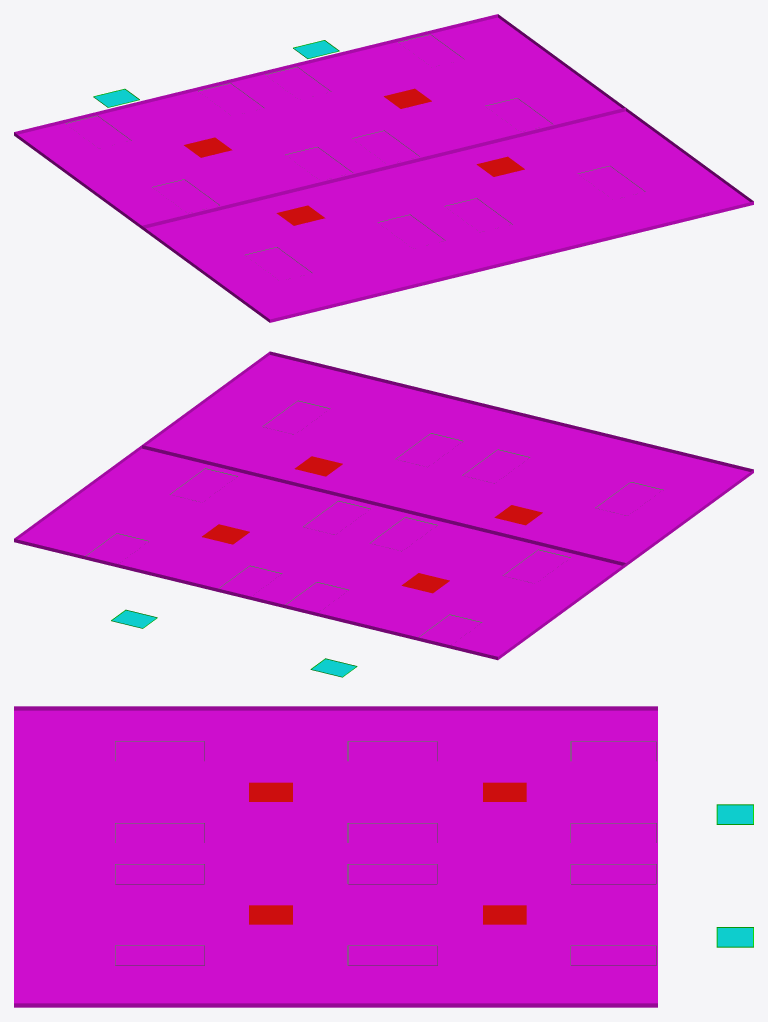
File: MeshBaker (6)-mesh-mesh.fbx
The picture shows the model from 3 angles, top to bottom: view 1: azimuth 30°, elevation 25°; view 2: azimuth 150°, elevation 25°; view 3: azimuth 270°, elevation 25°; orthographic projection. The views are drawn at different scales.
Visible parts, largest first — view 1: MeshBaker__6__mesh_mesh; view 2: MeshBaker__6__mesh_mesh; view 3: MeshBaker__6__mesh_mesh.
Part boxes in pixels (x1,y1,x2,y2): MeshBaker__6__mesh_mesh: (14, 14, 753, 322); MeshBaker__6__mesh_mesh: (14, 351, 753, 677); MeshBaker__6__mesh_mesh: (14, 706, 753, 1007).
Size of the model in its own units: 1596 by 67.69 by 1679.
